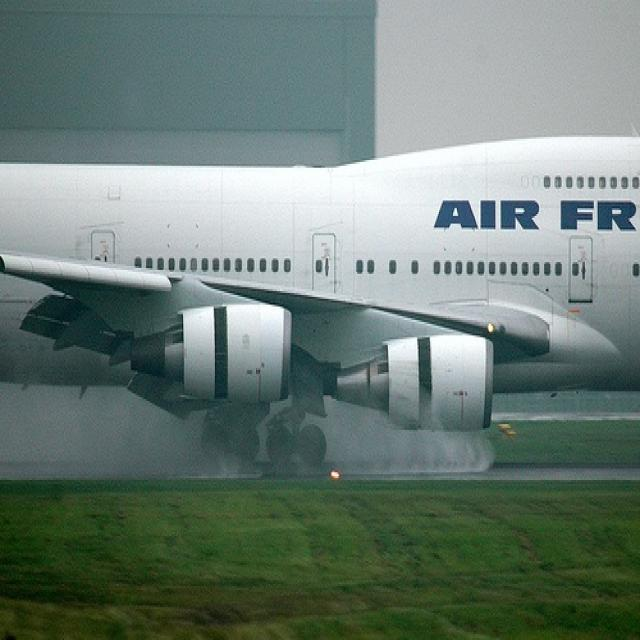aeroplane: (0, 131, 639, 467)
